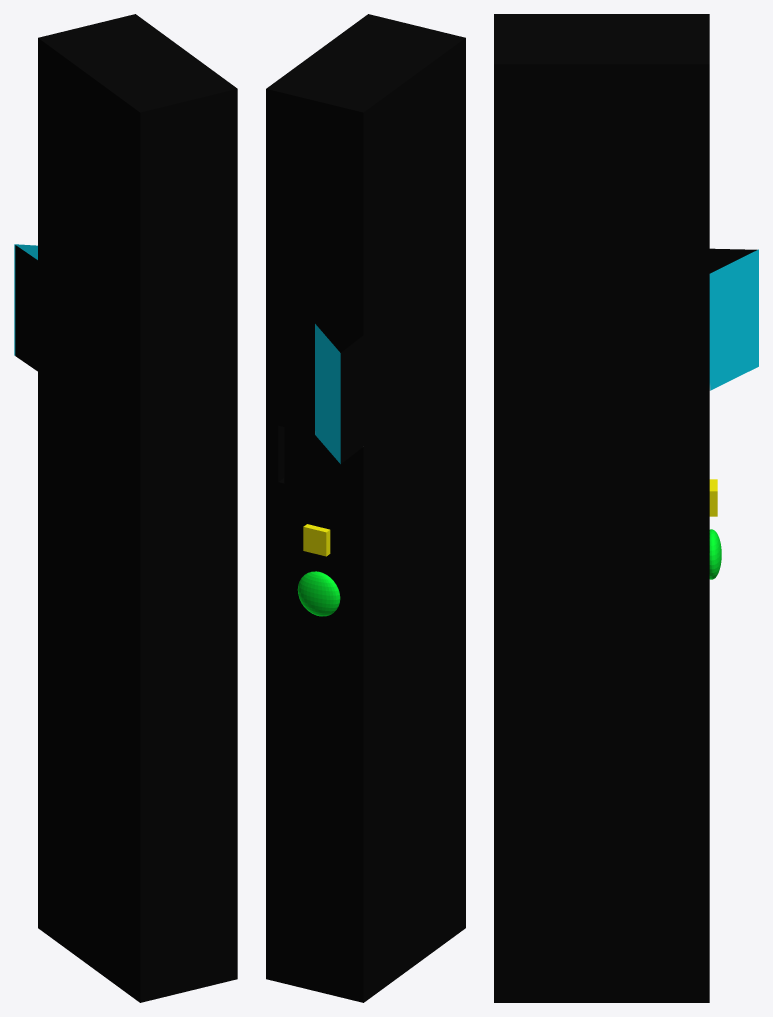
File: MoneyBox.obj
3 renders of one model, left to right at view 1: azimuth 30°, elevation 25°; view 2: azimuth 150°, elevation 25°; view 3: azimuth 270°, elevation 25°, orthographic. The views are drawn at different scales.
Visible parts, largest first — view 1: 球; view 2: 球; view 3: 球.
Part boxes in pixels (x1=…): 球: x1=14, y1=14, x2=237, y2=1002; 球: x1=266, y1=14, x2=465, y2=1002; 球: x1=494, y1=14, x2=758, y2=1002.
Bounding box in the file's own units: 3.36 × 29.13 × 7.45.
